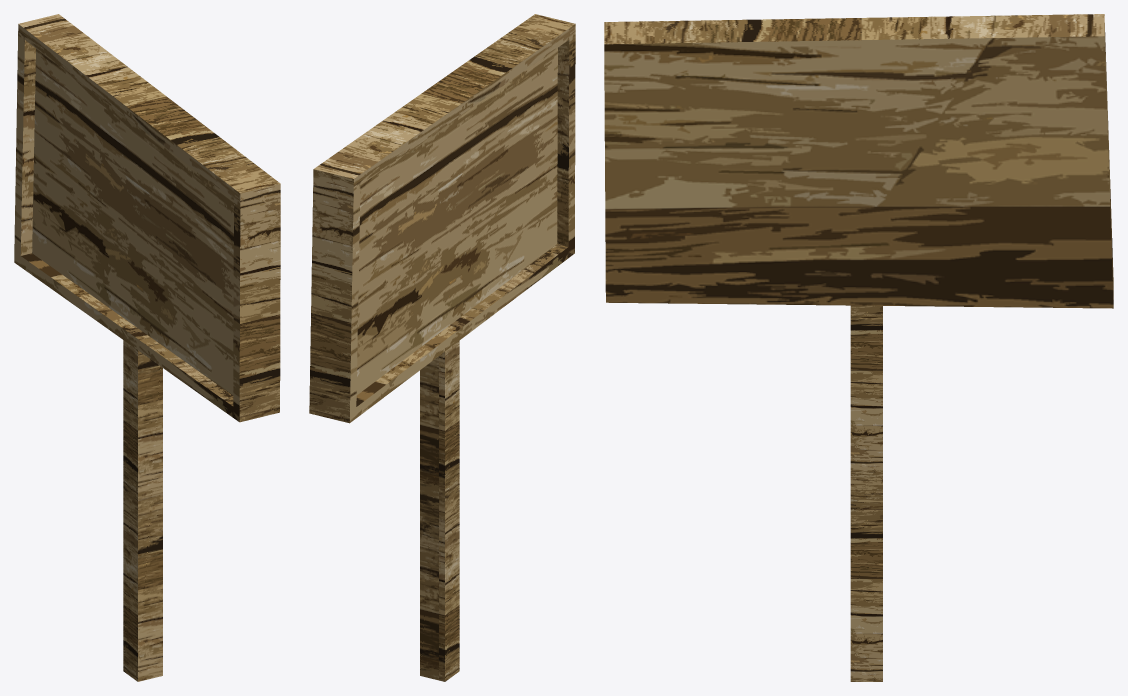
File: SM_Signpost.FBX
3 views of the same model, side by side, from view 1: azimuth 30°, elevation 25°; view 2: azimuth 150°, elevation 25°; view 3: azimuth 270°, elevation 25° (orthographic). The views are drawn at different scales.
Visible parts, largest first — view 1: Sign, Post; view 2: Sign, Post; view 3: Sign, Post.
Boxes of the visible parts, x1=… form: Sign: x1=14, y1=14, x2=280, y2=422; Post: x1=123, y1=340, x2=162, y2=681; Sign: x1=309, y1=14, x2=575, y2=423; Post: x1=420, y1=340, x2=459, y2=681; Sign: x1=604, y1=14, x2=1113, y2=308; Post: x1=850, y1=305, x2=882, y2=681.
Size of the model in its own units: 0.134 by 1.83 by 1.3.
Materials: 1 (1 with a texture image).
